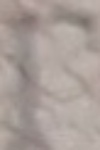G_RUS: (0, 0, 99, 149)
